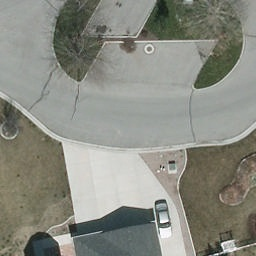car: (154, 200, 176, 238)
